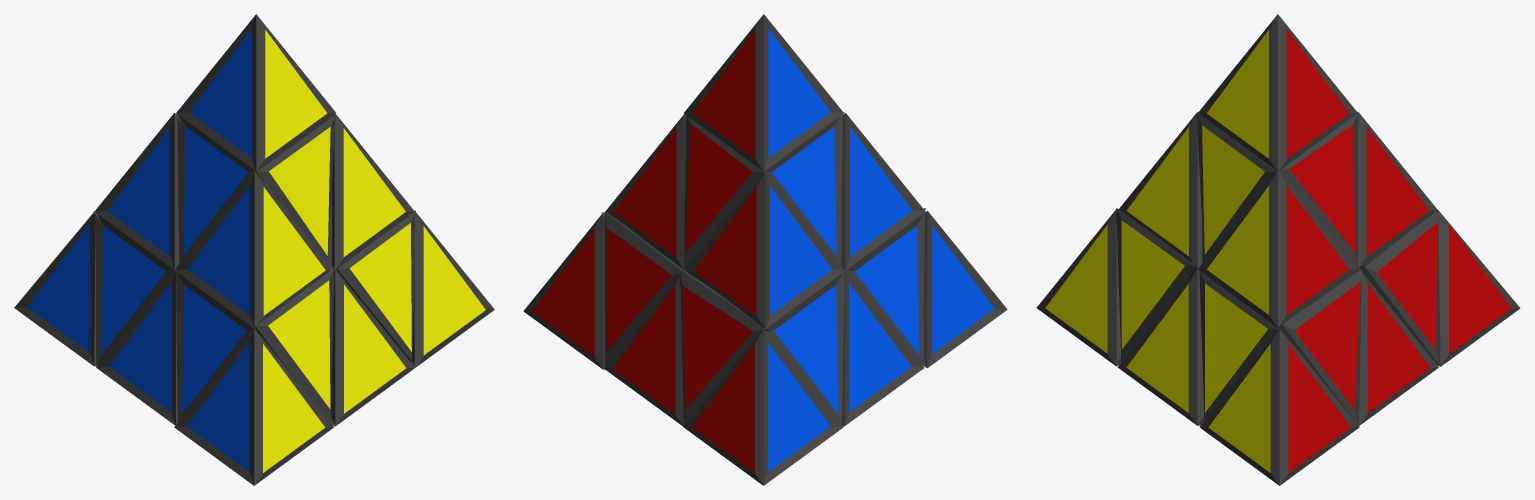
File: pyramix.glb
The picture shows the model from 3 angles, left to right: view 1: azimuth 30°, elevation 25°; view 2: azimuth 150°, elevation 25°; view 3: azimuth 270°, elevation 25°; orthographic projection.
Parts seen in each view (by area): view 1: Object_2, Object_3, Object_4; view 2: Object_2, Object_5, Object_3; view 3: Object_2, Object_5, Object_4.
Part boxes in pixels (left/top/right/bottom): Object_2: left=14, top=14, right=494, bottom=485; Object_3: left=27, top=28, right=251, bottom=471; Object_4: left=263, top=30, right=485, bottom=472; Object_2: left=523, top=14, right=1007, bottom=485; Object_5: left=532, top=29, right=756, bottom=472; Object_3: left=768, top=28, right=994, bottom=471; Object_2: left=1036, top=14, right=1520, bottom=485; Object_5: left=1286, top=29, right=1511, bottom=472; Object_4: left=1045, top=30, right=1270, bottom=472.
Bounding box in the file's own units: 2.61 × 2.45 × 3.02.
